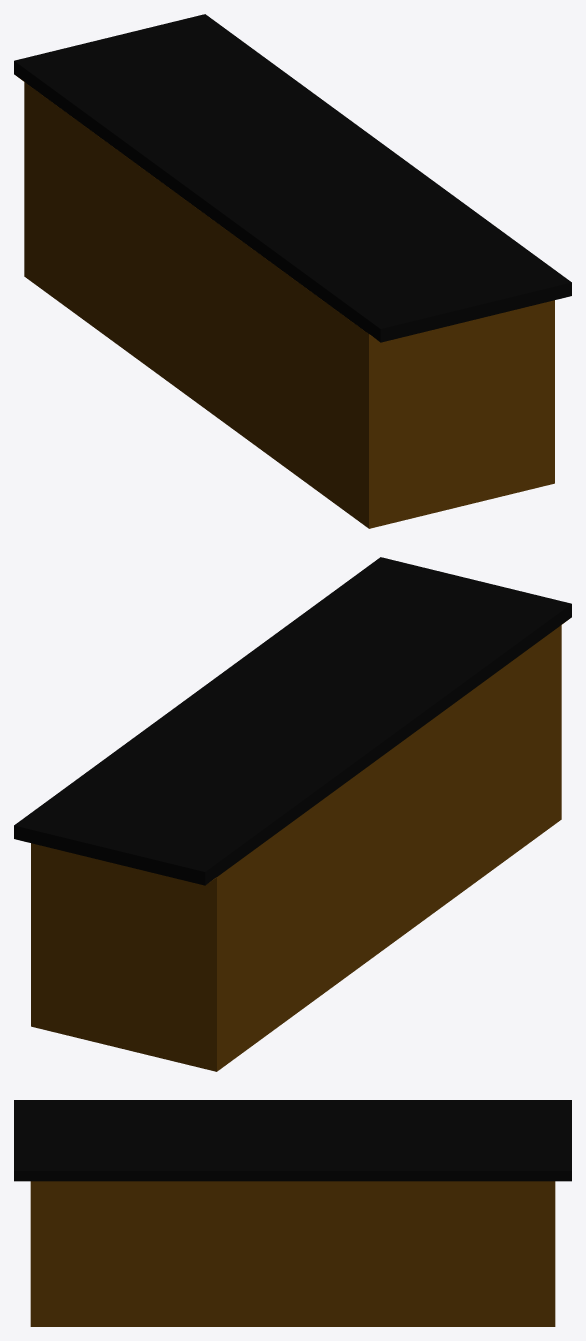
The model's file is Lab Counter.fbx.
3 views of the same model, one above another, from view 1: azimuth 30°, elevation 25°; view 2: azimuth 150°, elevation 25°; view 3: azimuth 270°, elevation 25° (orthographic). The views are drawn at different scales.
Visible parts, largest first — view 1: Cube; view 2: Cube; view 3: Cube.
Part boxes in pixels (x1,y1,x2,y2): Cube: (14, 14, 571, 528); Cube: (14, 557, 571, 1071); Cube: (14, 1100, 571, 1326).
Size of the model in its own units: 263 by 272 by 872.
